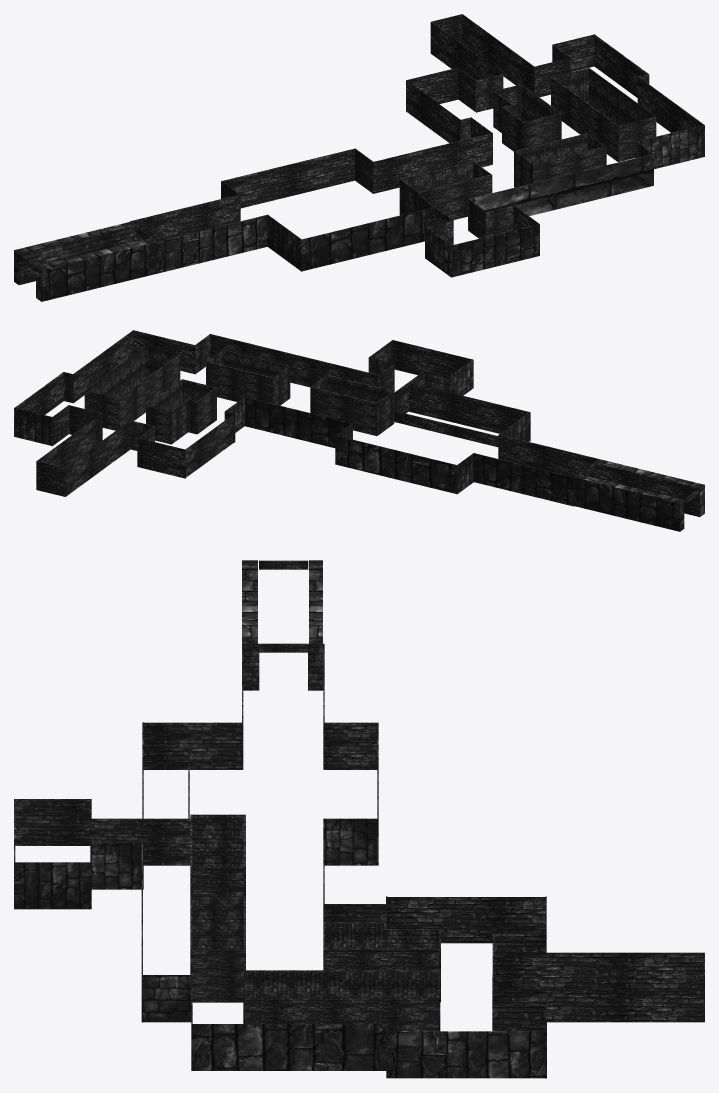
File: Mapa  IA.fbx
3 renders of one model, top to bottom at view 1: azimuth 30°, elevation 25°; view 2: azimuth 150°, elevation 25°; view 3: azimuth 270°, elevation 25°, orthographic. The views are drawn at different scales.
Visible parts, largest first — view 1: Cube.002, Cube.015, Cube.029, Cube.023, Cube.034, Cube.025, Cube.004, Cube.001, Cube.003, Cube.036, Cube.019, Cube.030 (+18 smaller); view 2: Cube.002, Cube.030, Cube.034, Cube.004, Cube.003, Cube.001, Cube.023, Cube.032, Cube.036, Cube.015, Cube.029, Cube.025 (+22 smaller); view 3: Cube.002, Cube.012, Cube.006, Cube.010, Cube.039, Cube.003, Cube.001, Cube.043, Cube.024, Cube.004, Cube.018, Cube.022 (+11 smaller).
Part boxes in pixels (box(x1,y1,x2,y2)): Cube.002: box(551, 68, 656, 161); Cube.015: box(468, 154, 653, 230); Cube.029: box(36, 238, 157, 301); Cube.023: box(300, 207, 434, 271); Cube.034: box(221, 148, 354, 208); Cube.025: box(157, 214, 267, 273); Cube.004: box(399, 161, 492, 219); Cube.001: box(493, 84, 561, 151); Cube.003: box(514, 133, 606, 187); Cube.036: box(373, 133, 492, 193); Cube.019: box(450, 224, 539, 277); Cube.030: box(14, 222, 134, 284); Cube.002: box(84, 346, 180, 430); Cube.030: box(574, 474, 684, 531); Cube.034: box(335, 435, 457, 494); Cube.004: box(310, 374, 394, 435); Cube.003: box(206, 349, 290, 405); Cube.001: box(146, 379, 216, 444); Cube.023: box(408, 382, 530, 441); Cube.032: box(473, 453, 573, 506); Cube.036: box(244, 397, 352, 447); Cube.015: box(209, 334, 378, 387); Cube.029: box(595, 459, 704, 516); Cube.025: box(498, 434, 598, 477); Cube.002: box(243, 970, 440, 1031); Cube.012: box(191, 1024, 387, 1070); Cube.006: box(492, 975, 703, 1022); Cube.010: box(386, 1031, 546, 1078); Cube.039: box(387, 897, 545, 943); Cube.003: box(190, 896, 245, 1002); Cube.001: box(323, 922, 440, 1002); Cube.043: box(492, 952, 704, 974); Cube.024: box(143, 722, 243, 769); Cube.004: box(190, 814, 245, 896); Cube.018: box(14, 862, 91, 909); Cube.022: box(91, 818, 190, 865).
Bounding box in the file's own units: 86.93 × 4.58 × 53.83.
Materials: 1 (1 with a texture image).
